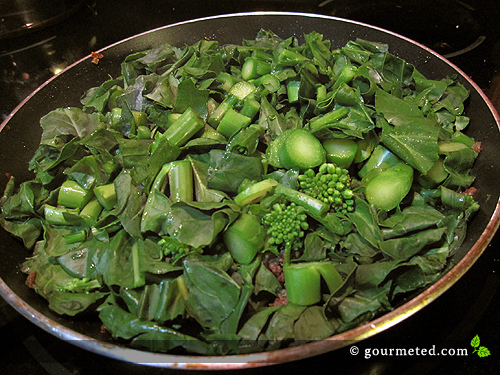broccoli: (298, 164, 353, 212), (264, 202, 309, 247)
